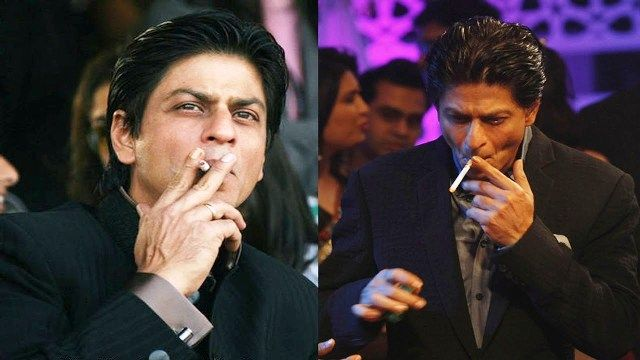cigarette: (448, 156, 475, 193), (198, 160, 214, 175)
